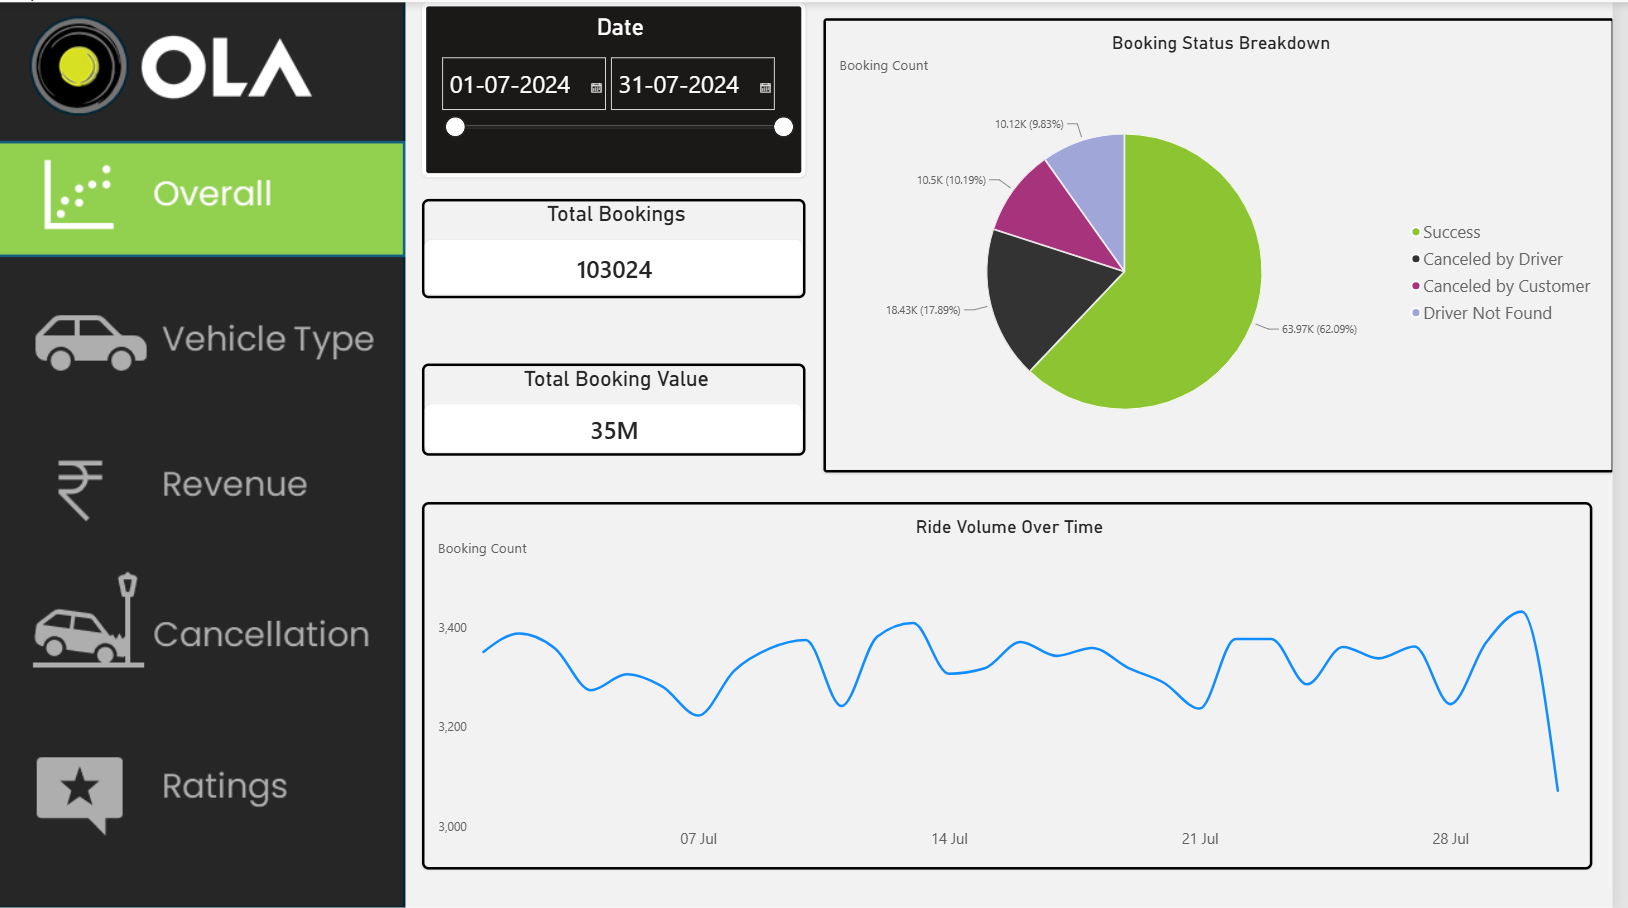

Layout of this report page (visuals, bound fields, positions):
{"tool":"powerbi","page":{"name":"Overall","canvas":[1920,1080],"ordinal":0},"visuals":[{"type":"actionButton","box":[0,350.5,488.7,116.8],"z":0},{"type":"actionButton","box":[0,515,488.7,116.8],"z":1000},{"type":"lineChart","title":"Ride Volume Over Time","fields":{"Y":["CountNonNull(Bookings-100000-Rows.Booking_ID)"],"Category":["Bookings-100000-Rows.Date"]},"box":[505.4,593.6,1389.9,436.3],"z":2000},{"type":"pieChart","title":"Booking Status Breakdown","fields":{"Category":["Bookings-100000-Rows.Booking_Status"],"Y":["CountNonNull(Bookings-100000-Rows.Booking_Status)"]},"box":[981.1,19.7,938.9,539.7],"z":3000},{"type":"slicer","title":"Date","fields":{"Values":["Bookings-100000-Rows.Date"]},"box":[506,0,455.4,208],"z":4000},{"type":"cardVisual","title":"Total Bookings","fields":{"Data":["CountNonNull(Bookings-100000-Rows.Booking_ID)"]},"box":[506,233.3,455.4,118.1],"z":5000},{"type":"cardVisual","title":"Total Booking Value","fields":{"Data":["Sum(Bookings-100000-Rows.Booking_Value)"]},"box":[506,430.1,455.4,109.6],"z":6000}]}

Visuals, with their boxes in screenshot pixels (x1, y1, x2, y2), scaled from the page's 1920x1080 canvas onto the 1628x908 screenshot:
actionButton: rect(0, 295, 414, 393)
actionButton: rect(0, 433, 414, 531)
"Ride Volume Over Time" lineChart: rect(429, 499, 1607, 866)
"Booking Status Breakdown" pieChart: rect(832, 17, 1627, 470)
"Date" slicer: rect(429, 0, 815, 175)
"Total Bookings" cardVisual: rect(429, 196, 815, 295)
"Total Booking Value" cardVisual: rect(429, 362, 815, 454)
